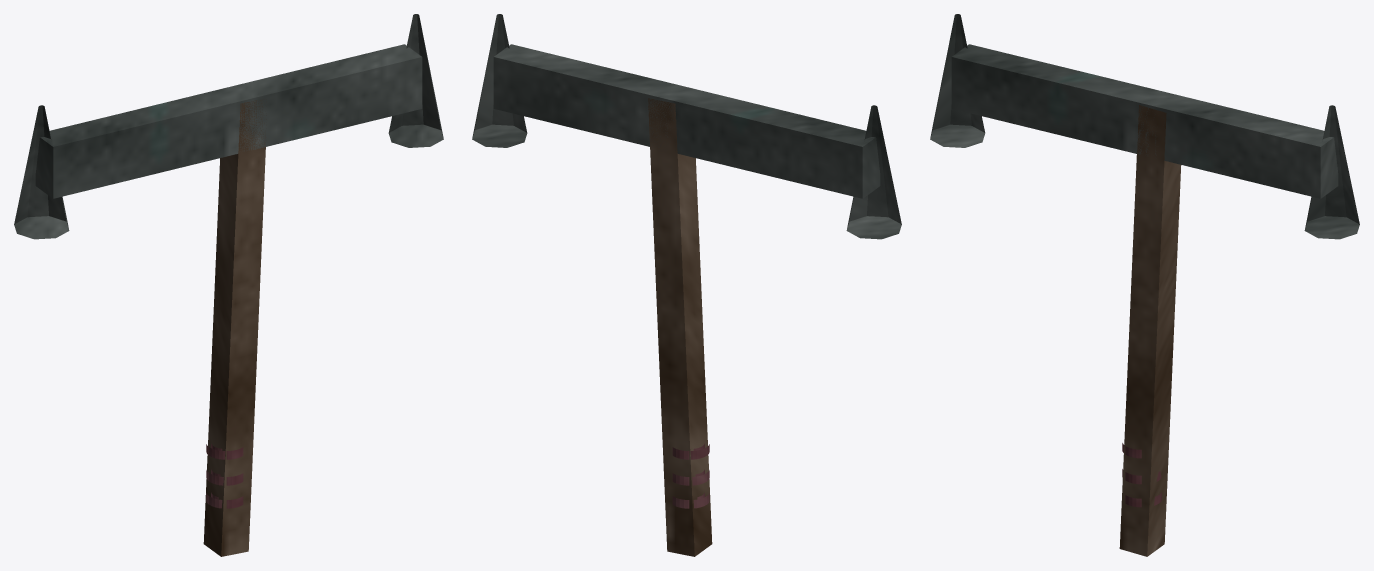
Rendered from 0866_pickaxe_16.glb.
3 renders of one model, left to right at view 1: azimuth 30°, elevation 25°; view 2: azimuth 150°, elevation 25°; view 3: azimuth 330°, elevation 25°, orthographic.
Parts seen in each view (by area): view 1: iron, wood, cloth; view 2: iron, wood, cloth; view 3: iron, wood, cloth.
Part boxes in pixels (<box>): iron: <box>14,14,443,239</box>; wood: <box>203,100,266,556</box>; cloth: <box>206,443,243,508</box>; iron: <box>472,14,901,239</box>; wood: <box>648,98,712,556</box>; cloth: <box>672,443,709,508</box>; iron: <box>930,14,1359,239</box>; wood: <box>1119,105,1181,556</box>; cloth: <box>1122,443,1161,507</box>.
Size of the model in its own units: 1.54 by 1.69 by 0.18.
3 materials, 3 textured.
